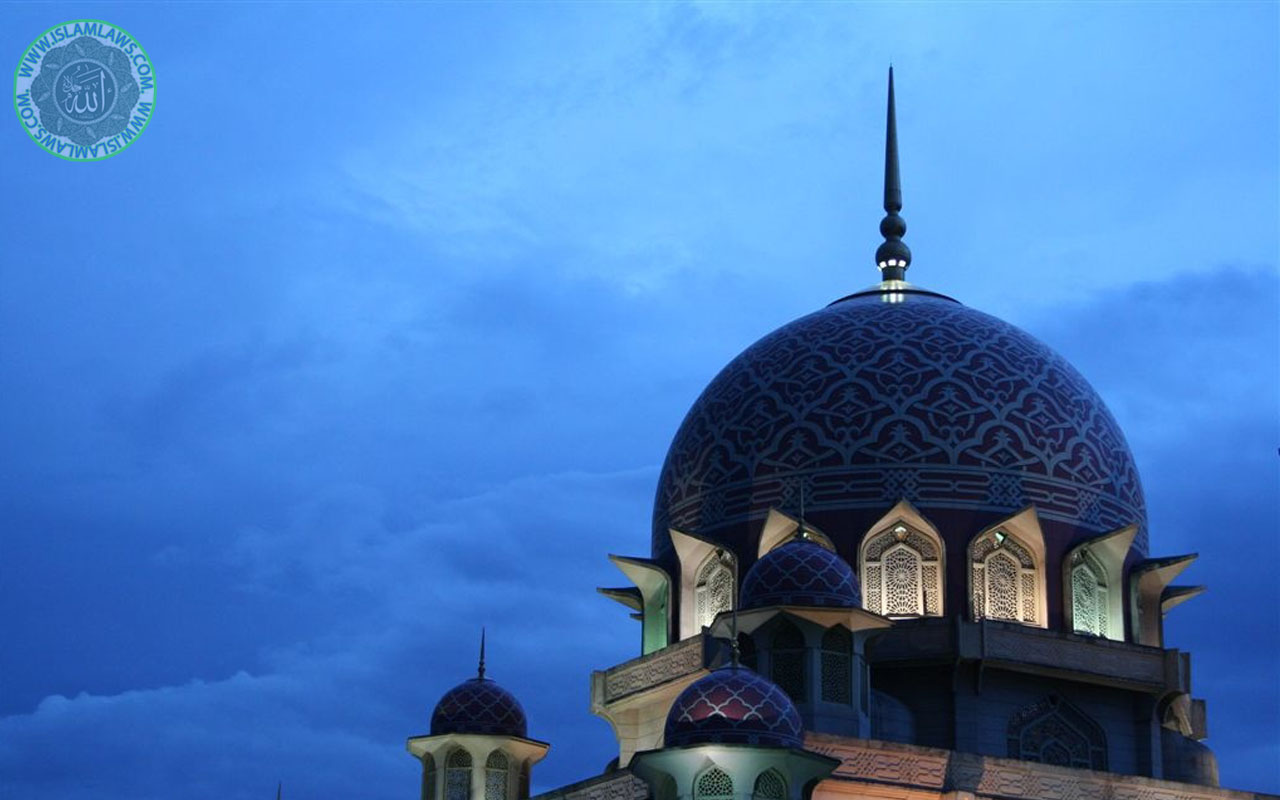Mosque: (568, 60, 1166, 779)
